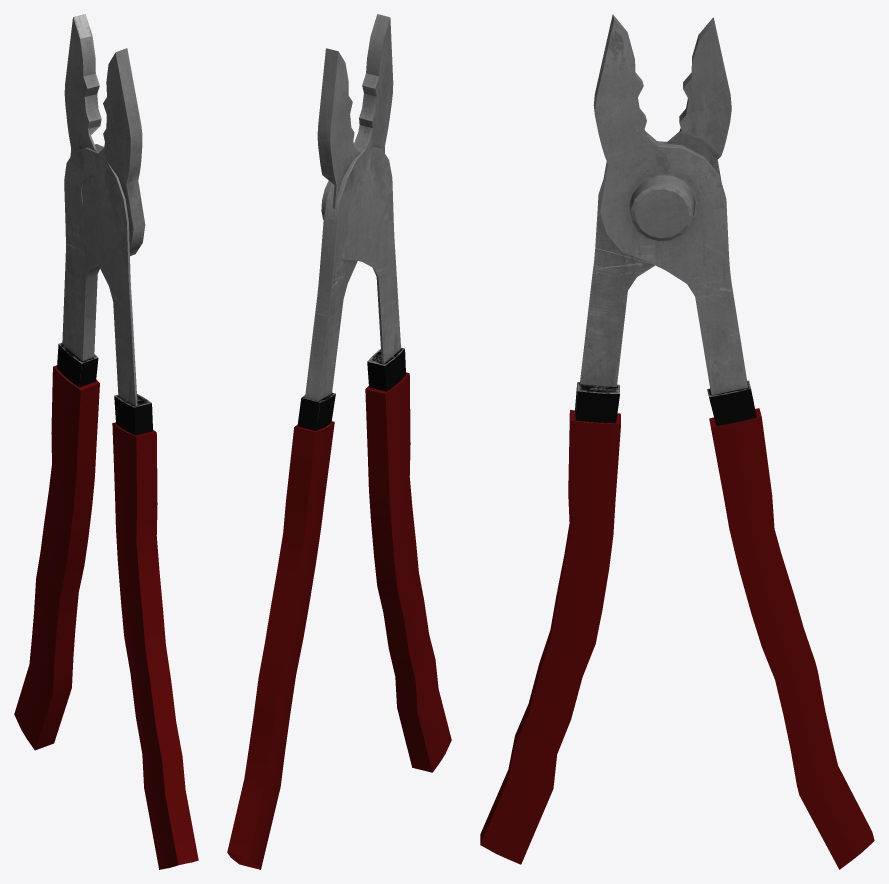
File: tweezer1.fbx
3 renders of one model, left to right at view 1: azimuth 30°, elevation 25°; view 2: azimuth 150°, elevation 25°; view 3: azimuth 270°, elevation 25°, orthographic. The views are drawn at different scales.
Visible parts, largest first — view 1: Cylinder.014; view 2: Cylinder.014; view 3: Cylinder.014.
Boxes of the visible parts, x1,y1,x2,y2 form: Cylinder.014: (14, 14, 198, 869); Cylinder.014: (227, 14, 451, 869); Cylinder.014: (480, 14, 874, 869).
Size of the model in its own units: 2.75 by 45.78 by 19.47.
